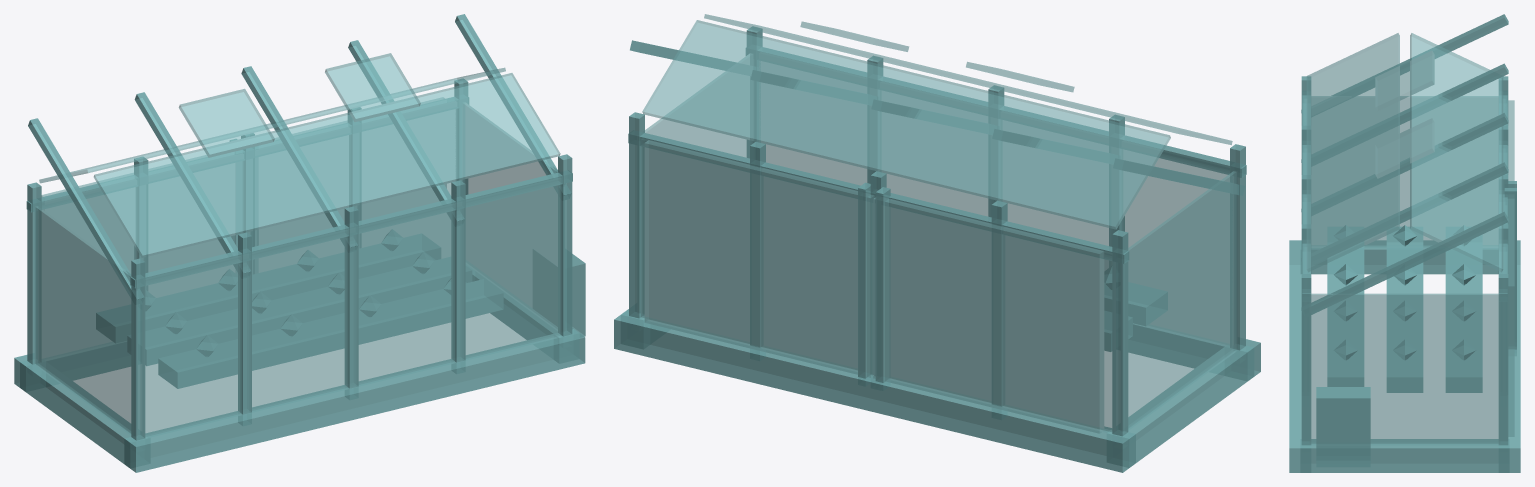
The model's file is glasshouse.source.glb.
The picture shows the model from 3 angles, left to right: view 1: azimuth 30°, elevation 25°; view 2: azimuth 150°, elevation 25°; view 3: azimuth 270°, elevation 25°; orthographic projection. The views are drawn at different scales.
Visible parts, largest first — view 1: glasshouse-wall-glass-0.805-mesh, glasshouse-roof-glass-0.42-mesh, glasshouse-wall-glass--0.805-mesh, glasshouse-curb-long-0.85-mesh, glasshouse-end-glass--1.9-mesh, glasshouse-end-glass-1.9-mesh, glasshouse-bench-0.48-mesh, glasshouse-bench--0.48-mesh, glasshouse-bench-0-mesh, glasshouse-eave-0.8-mesh, glasshouse-curb-end--1.91-mesh, glasshouse-eave--0.8-mesh (+23 smaller); view 2: glasshouse-wall-glass--0.805-mesh, glasshouse-roof-glass--0.42-mesh, glasshouse-wall-glass-0.805-mesh, glasshouse-left-door-mesh, glasshouse-right-door-mesh, glasshouse-curb-long--0.85-mesh, glasshouse-end-glass--1.9-mesh, glasshouse-curb-end--1.91-mesh, glasshouse-eave--0.8-mesh, glasshouse-eave-0.8-mesh, glasshouse-end-glass-1.9-mesh, glasshouse-curb-long-0.85-mesh (+22 smaller); view 3: glasshouse-end-glass-1.9-mesh, glasshouse-roof-glass-0.42-mesh, glasshouse-end-glass--1.9-mesh, glasshouse-roof-glass--0.42-mesh, glasshouse-curb-end-1.91-mesh, glasshouse-bench--0.48-mesh, glasshouse-bench-0-mesh, glasshouse-service-cabinet-mesh, glasshouse-bench-0.48-mesh, glasshouse-curb-long-0.85-mesh, glasshouse-roof-rib-1.9-mesh, glasshouse-roof-rib-0.95-mesh (+29 smaller).
Part boxes in pixels (x1,y1,x2,y2): glasshouse-wall-glass-0.805-mesh: [145, 178, 561, 436]; glasshouse-roof-glass-0.42-mesh: [94, 73, 560, 257]; glasshouse-wall-glass--0.805-mesh: [42, 109, 456, 358]; glasshouse-curb-long-0.85-mesh: [124, 329, 585, 472]; glasshouse-end-glass--1.9-mesh: [35, 206, 137, 435]; glasshouse-end-glass-1.9-mesh: [462, 103, 564, 330]; glasshouse-bench-0.48-mesh: [158, 279, 503, 388]; glasshouse-bench--0.48-mesh: [96, 233, 440, 343]; glasshouse-bench-0-mesh: [127, 257, 471, 365]; glasshouse-eave-0.8-mesh: [130, 171, 572, 288]; glasshouse-curb-end--1.91-mesh: [20, 359, 150, 467]; glasshouse-eave--0.8-mesh: [26, 97, 468, 212]; glasshouse-wall-glass--0.805-mesh: [641, 139, 1112, 432]; glasshouse-roof-glass--0.42-mesh: [642, 20, 1170, 229]; glasshouse-wall-glass-0.805-mesh: [759, 61, 1229, 343]; glasshouse-left-door-mesh: [873, 197, 1104, 433]; glasshouse-right-door-mesh: [644, 140, 874, 377]; glasshouse-curb-long--0.85-mesh: [614, 310, 1135, 472]; glasshouse-end-glass--1.9-mesh: [1128, 171, 1236, 428]; glasshouse-curb-end--1.91-mesh: [1107, 344, 1254, 467]; glasshouse-eave--0.8-mesh: [628, 131, 1129, 263]; glasshouse-eave-0.8-mesh: [746, 47, 1246, 177]; glasshouse-end-glass-1.9-mesh: [645, 54, 753, 158]; glasshouse-curb-long-0.85-mesh: [1128, 323, 1260, 380]; glasshouse-end-glass-1.9-mesh: [1310, 293, 1499, 444]; glasshouse-roof-glass-0.42-mesh: [1306, 33, 1399, 272]; glasshouse-end-glass--1.9-mesh: [1311, 96, 1498, 247]; glasshouse-roof-glass--0.42-mesh: [1410, 33, 1503, 272]; glasshouse-curb-end-1.91-mesh: [1300, 439, 1509, 472]; glasshouse-bench--0.48-mesh: [1445, 227, 1482, 392]; glasshouse-bench-0-mesh: [1386, 226, 1423, 392]; glasshouse-service-cabinet-mesh: [1316, 387, 1370, 467]; glasshouse-bench-0.48-mesh: [1327, 227, 1364, 386]; glasshouse-curb-long-0.85-mesh: [1289, 240, 1311, 472]; glasshouse-roof-rib-1.9-mesh: [1301, 211, 1508, 317]; glasshouse-roof-rib-0.95-mesh: [1301, 162, 1508, 265].
Bounding box in the file's own units: 4.13 × 2.42 × 1.88.
